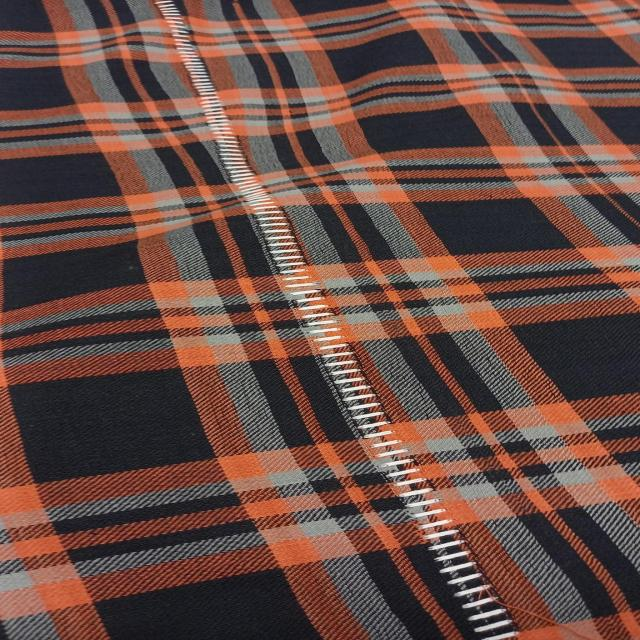gray stitch: (152, 0, 527, 638)
